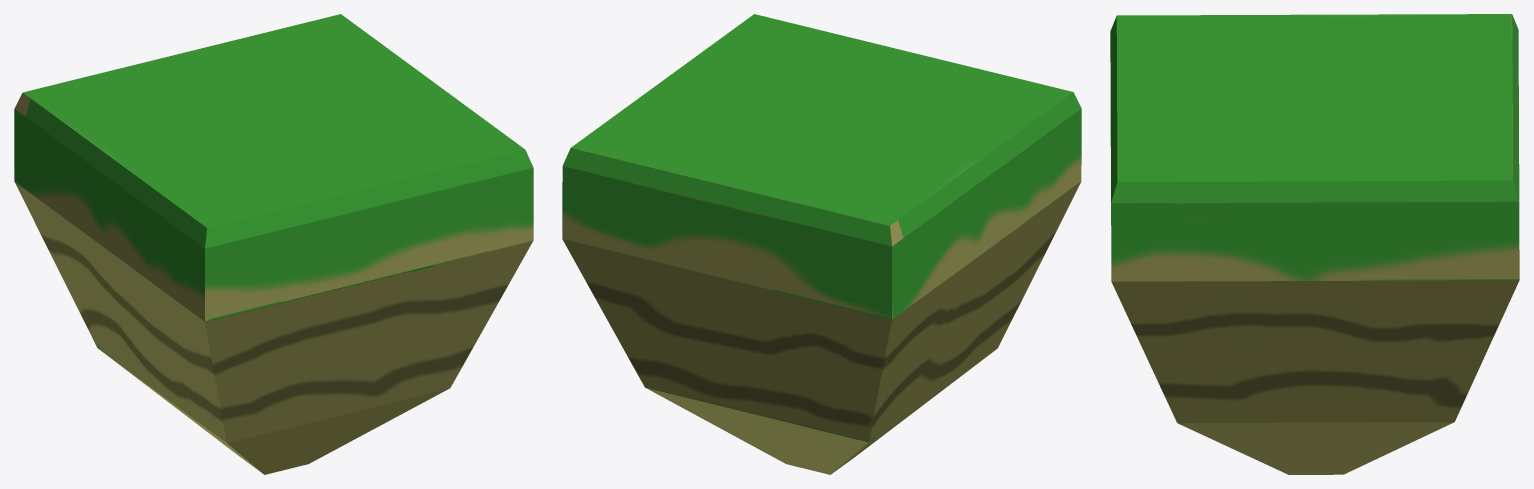
The model's file is plat1.obj.
3 renders of one model, left to right at view 1: azimuth 30°, elevation 25°; view 2: azimuth 150°, elevation 25°; view 3: azimuth 270°, elevation 25°, orthographic. The views are drawn at different scales.
Visible parts, largest first — view 1: Cube; view 2: Cube; view 3: Cube.
Boxes of the visible parts, x1,y1,x2,y2 form: Cube: (14,14,533,474); Cube: (562,14,1081,474); Cube: (1110,14,1519,474).
Bounding box in the file's own units: 2 × 1.98 × 2.
Materials: 1 (1 with a texture image).
